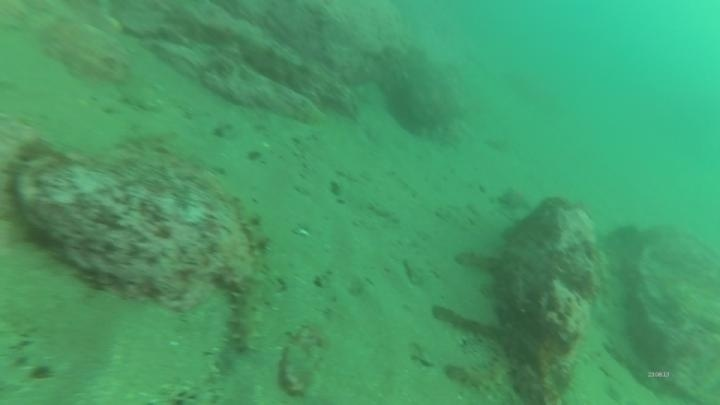holothurian: (225, 267, 282, 356), (441, 354, 520, 398)
starfish: (495, 185, 536, 215)
